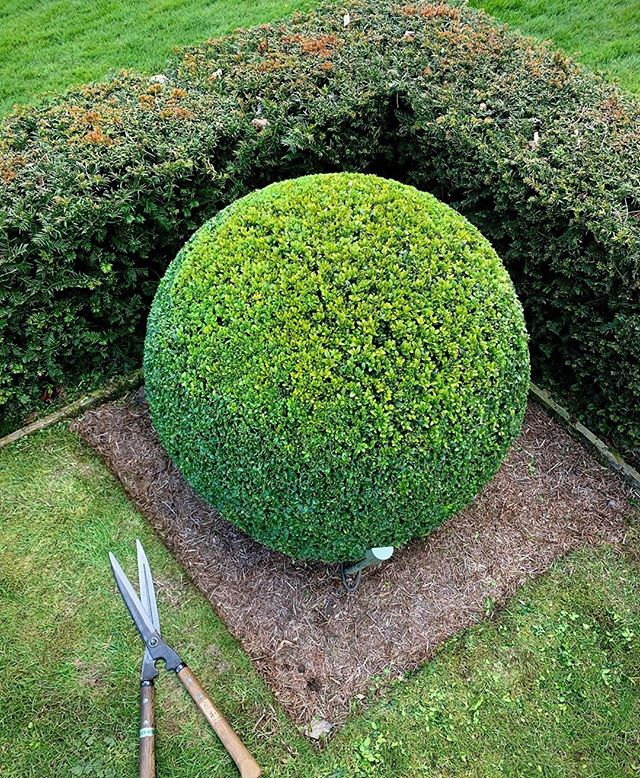tree: (137, 162, 537, 614)
vegetation: (18, 3, 640, 385)
